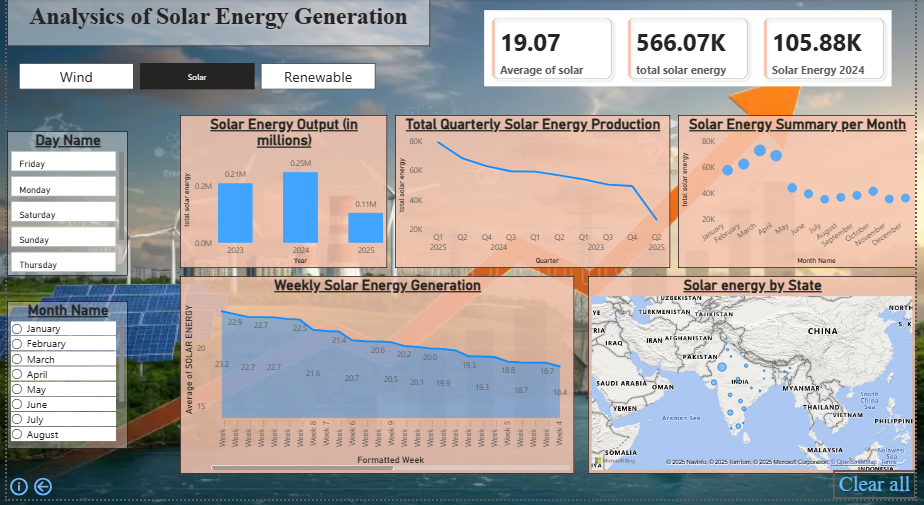

Layout of this report page (visuals, bound fields, positions):
{"tool":"powerbi","page":{"name":"Solar ","canvas":[1443,794],"ordinal":5},"visuals":[{"type":"columnChart","title":"Solar Energy Output (in millions)","fields":{"Category":["Calendar.Year"],"Y":["solar measures.total solar energy"]},"box":[274.7,184.2,328.7,243],"z":0},{"type":"scatterChart","title":"Solar Energy Summary per Month","fields":{"X":["Calendar.Month Name"],"Size":["solar measures.total solar energy"],"Y":["solar measures.total solar energy"]},"box":[1065.5,184.2,377.9,243],"z":1000},{"type":"stackedAreaChart","title":"Weekly Solar Energy Generation","fields":{"Category":["Calendar.Formatted Week"],"Y":["Avg(daily enery resource.SOLAR ENERGY)"]},"box":[274.7,439.9,625.7,314.4],"z":2000},{"type":"lineChart","title":"Total Quarterly Solar Energy Production","fields":{"Y":["solar measures.total solar energy"],"Category":["Calendar.Year","Calendar.Quarter"]},"box":[616.1,184.2,436.7,243],"z":3000},{"type":"map","title":"Solar energy by State","fields":{"Category":["daily enery resource.STATE NAME"],"Size":["solar measures.total solar energy"]},"box":[922.6,439.9,520.9,314.4],"z":4000},{"type":"listSlicer","fields":{"Values":["Calendar.Month Name"]},"box":[0,479.6,192.1,235],"z":5000},{"type":"textbox","box":[0,0,671.7,74.6],"z":6000},{"type":"pageNavigator","box":[19.1,101.6,568.5,42.9],"z":7000},{"type":"actionButton","box":[1311.7,747.9,131.8,46.1],"z":8000},{"type":"actionButton","box":[0,754.3,38.1,39.7],"z":9000},{"type":"actionButton","box":[38.1,754.3,38.1,39.7],"z":10000},{"type":"advancedSlicerVisual","fields":{"Values":["Calendar.Day Name"]},"box":[0,209.6,192.1,230.3],"z":11000},{"type":"cardVisual","fields":{"Data":["solar measures.Average of solar","solar measures.total solar energy","solar measures.Solar YTD"]},"box":[752.7,12.7,657.4,131.8],"z":12000}]}

Visuals, with their boxes in screenshot pixels (x1, y1, x2, y2), scaled from the page's 1443x794 canvas onto the 924x505 screenshot:
"Solar Energy Output (in millions)" columnChart: box=[176, 117, 386, 272]
"Solar Energy Summary per Month" scatterChart: box=[682, 117, 923, 272]
"Weekly Solar Energy Generation" stackedAreaChart: box=[176, 280, 577, 480]
"Total Quarterly Solar Energy Production" lineChart: box=[395, 117, 674, 272]
"Solar energy by State" map: box=[591, 280, 923, 480]
listSlicer - Calendar.Month Name: box=[0, 305, 123, 455]
textbox: box=[0, 0, 430, 47]
pageNavigator: box=[12, 65, 376, 92]
actionButton: box=[840, 476, 923, 504]
actionButton: box=[0, 480, 24, 504]
actionButton: box=[24, 480, 49, 504]
advancedSlicerVisual - Calendar.Day Name: box=[0, 133, 123, 280]
cardVisual - solar measures.Average of solar x solar measures.total solar energy: box=[482, 8, 903, 92]
